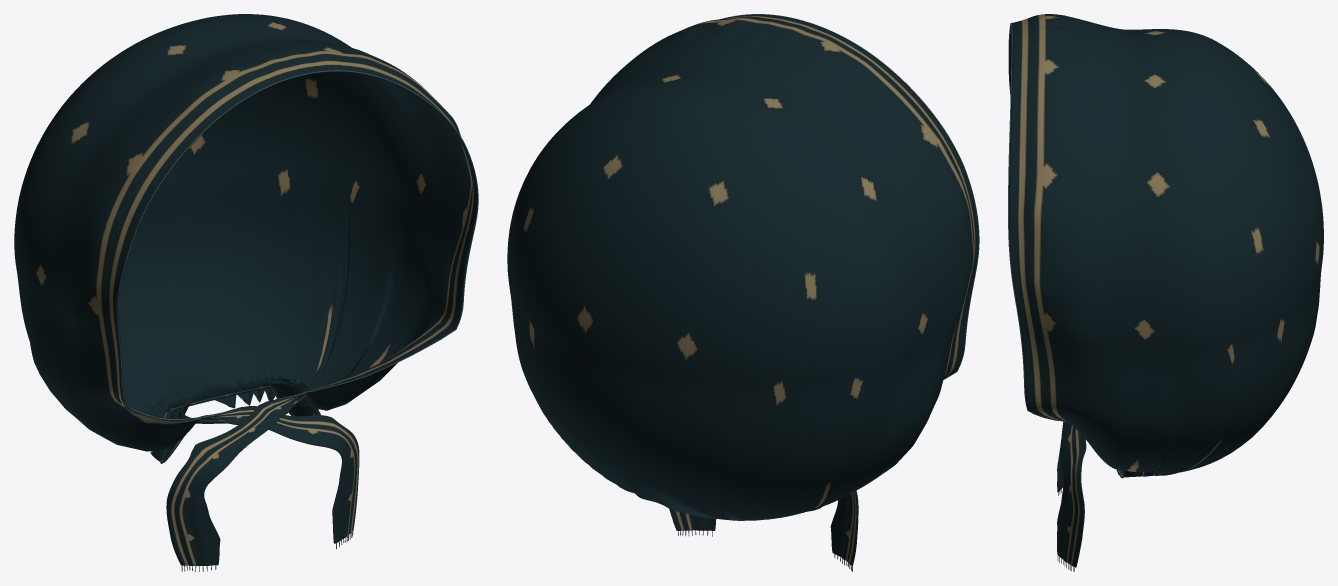
The model's file is Masculine-afro-buttonup-pashmina250-headgear.glb.
The picture shows the model from 3 angles, left to right: view 1: azimuth 30°, elevation 25°; view 2: azimuth 150°, elevation 25°; view 3: azimuth 270°, elevation 25°; orthographic projection. The views are drawn at different scales.
Visible parts, largest first — view 1: 226 headgear / Headwear / continuous woven pashmina239, 226 headgear / Headwear / face edge239; view 2: 226 headgear / Headwear / continuous woven pashmina239, 226 headgear / Headwear / face edge239; view 3: 226 headgear / Headwear / continuous woven pashmina239, 226 headgear / Headwear / face edge239.
Boxes of the visible parts, <box> form: 226 headgear / Headwear / continuous woven pashmina239: <box>14,14,477,565</box>; 226 headgear / Headwear / face edge239: <box>117,70,478,423</box>; 226 headgear / Headwear / continuous woven pashmina239: <box>507,14,978,566</box>; 226 headgear / Headwear / face edge239: <box>720,14,979,379</box>; 226 headgear / Headwear / continuous woven pashmina239: <box>1009,14,1323,567</box>; 226 headgear / Headwear / face edge239: <box>1008,22,1058,420</box>.
Size of the model in its own units: 1.14 by 1.45 by 0.833.
3 materials, 1 textured.
